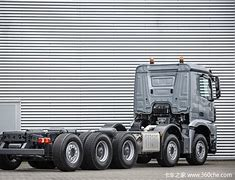bigtruck: (2, 55, 217, 169)
